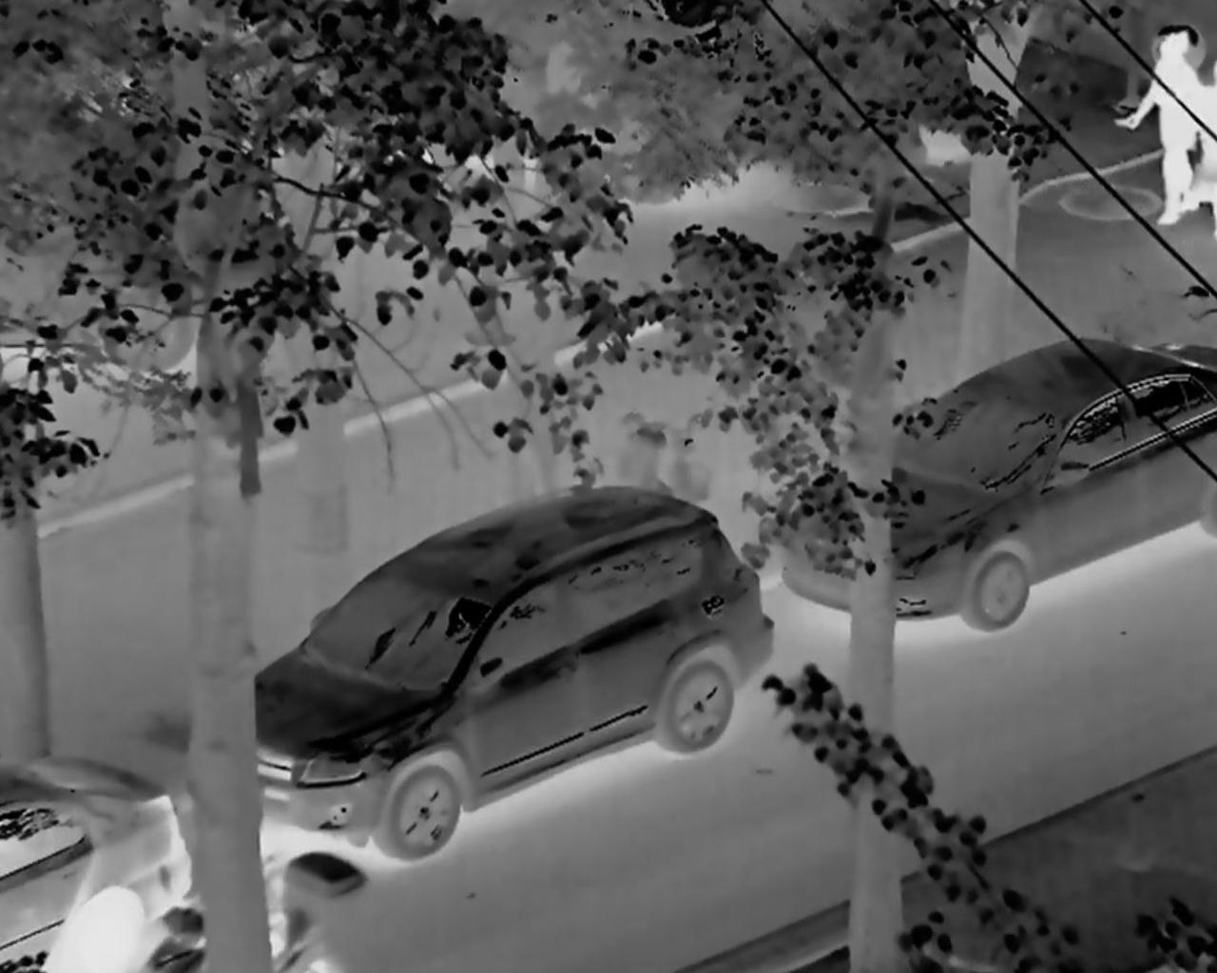person: (1118, 26, 1214, 254)
